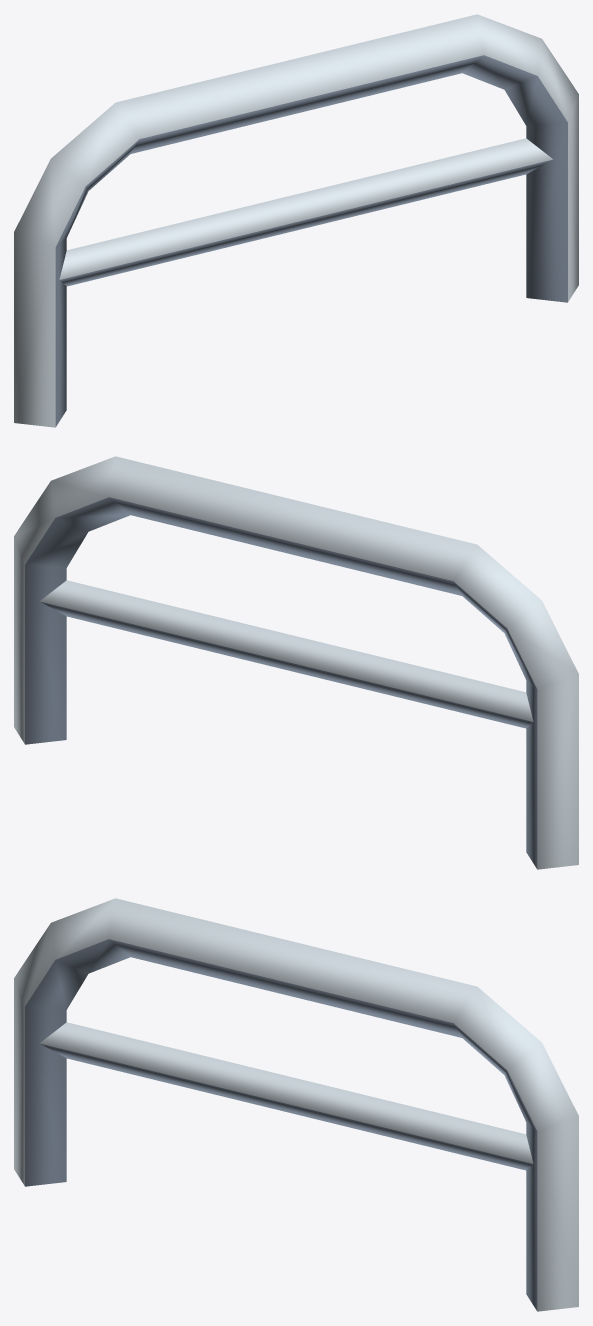
File: ballard.fbx
3 renders of one model, top to bottom at view 1: azimuth 30°, elevation 25°; view 2: azimuth 150°, elevation 25°; view 3: azimuth 330°, elevation 25°, orthographic.
Visible parts, largest first — view 1: ballard, bar; view 2: ballard, bar; view 3: ballard, bar.
Part boxes in pixels (x1,y1,x2,y2): ballard: (14,14,578,427); bar: (59,138,552,286); ballard: (14,456,578,869); bar: (40,580,533,728); ballard: (14,898,578,1311); bar: (40,1022,533,1170).
Bounding box in the file's own units: 87.78 × 43.89 × 8.2.
1 material, 1 textured.
